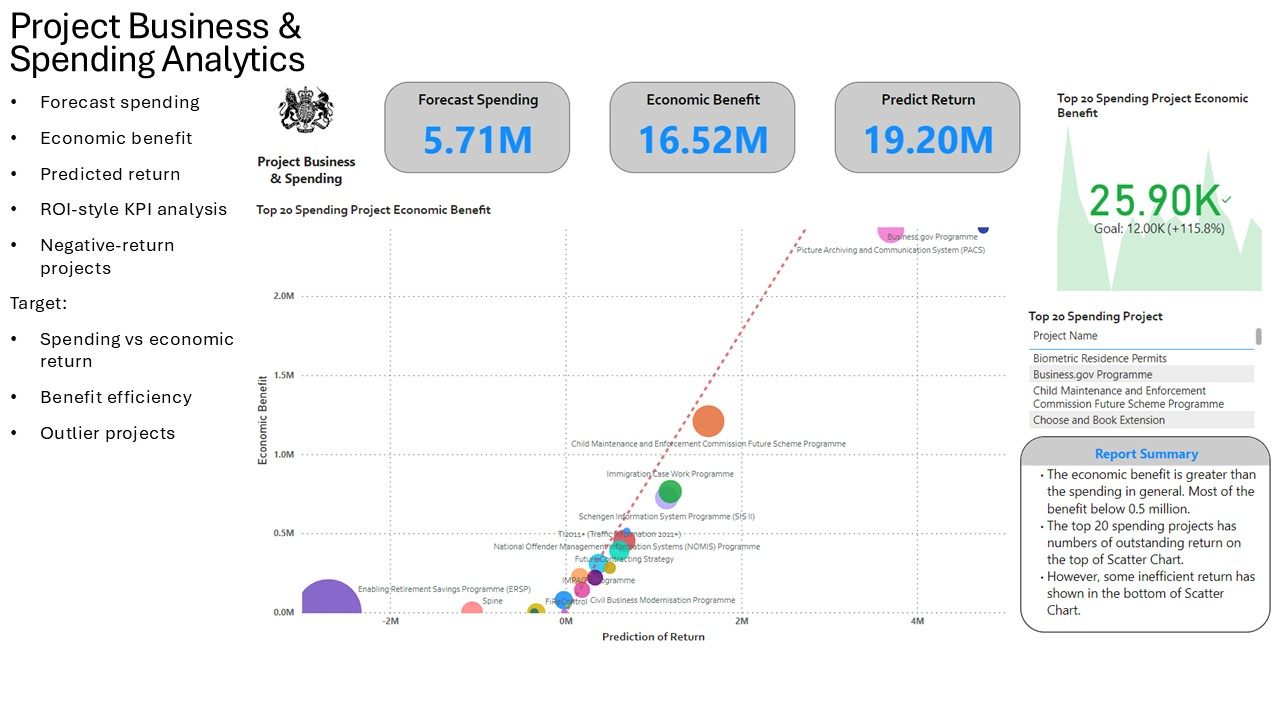

The page's visual inventory and layout, read from the dashboard file:
{"tool":"powerbi","page":{"name":"Project Business and Spending","canvas":[1280,720],"ordinal":2},"visuals":[{"type":"image","box":[32,0,80,96],"z":0},{"type":"textbox","box":[0,96.4,144,55.8],"z":1000},{"type":"scatterChart","title":"Top 20 Spending Project Economic Benefit","fields":{"Category":["Actualk Costs.Project Name"],"X":["Sum(Business Case.Predicted Return on Investment)"],"Y":["Sum(Business Case.Economic Benefits £'000)"],"Size":["Sum(Actualk Costs.Total Forecast)"]},"box":[0,152.2,957.1,568],"z":2000},{"type":"kpi","title":"Top 20 Spending Project Economic Benefit","fields":{"TrendLine":["Actualk Costs.Project Name"],"Indicator":["Sum(Business Case.Predicted Return on Investment)"],"Goal":["Sum(Actualk Costs.Total Forecast)"]},"box":[993.1,13.9,274.1,269.5],"z":3000},{"type":"card","title":"Forecast Spending","fields":{"Values":["Sum(Actualk Costs.Total Forecast)"]},"box":[169.4,13.9,230,112.7],"z":4000},{"type":"card","title":"Economic Benefit","fields":{"Values":["Sum(Business Case.Economic Benefits £'000)"]},"box":[448.3,13.9,230,112.7],"z":5000},{"type":"card","title":"Predict Return","fields":{"Values":["Sum(Business Case.Predicted Return on Investment)"]},"box":[727.1,13.9,230,112.7],"z":6000},{"type":"tableEx","title":"Top 20 Spending Project","fields":{"Values":["Actualk Costs.Project Name"]},"box":[957.1,283.4,310.1,169.6],"z":7000},{"type":"textbox","title":"Report Summary","box":[957.1,453,310.1,242.8],"z":8000}]}

Visuals, with their boxes in screenshot pixels (x1, y1, x2, y2), scaled from the page's 1280x720 canvas onto the 1280x720 screenshot:
image: 32/0/112/96
textbox: 0/96/144/152
"Top 20 Spending Project Economic Benefit" scatterChart: 0/152/957/719
"Top 20 Spending Project Economic Benefit" kpi: 993/14/1267/283
"Forecast Spending" card: 169/14/399/127
"Economic Benefit" card: 448/14/678/127
"Predict Return" card: 727/14/957/127
"Top 20 Spending Project" tableEx: 957/283/1267/453
"Report Summary" textbox: 957/453/1267/696
